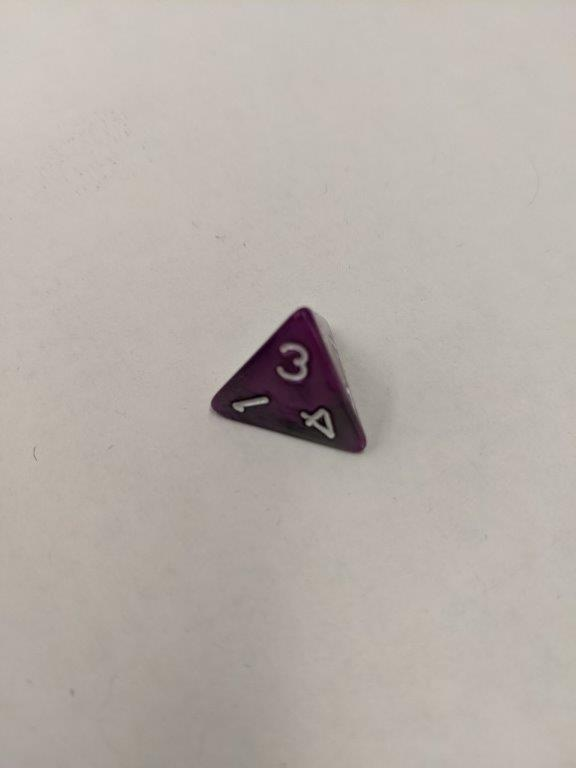d4-3: (208, 304, 370, 462)
